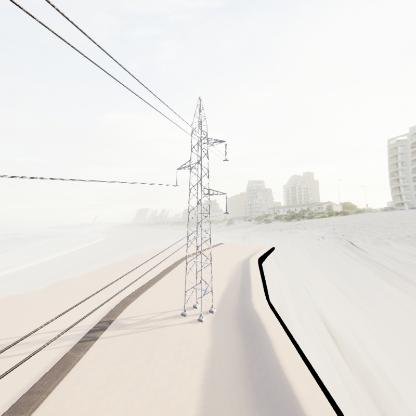tower: (175, 95, 231, 323)
